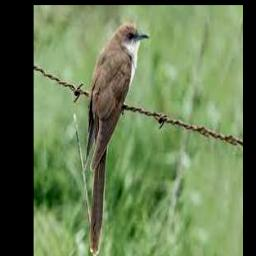Cuckoo: (85, 22, 150, 256)
